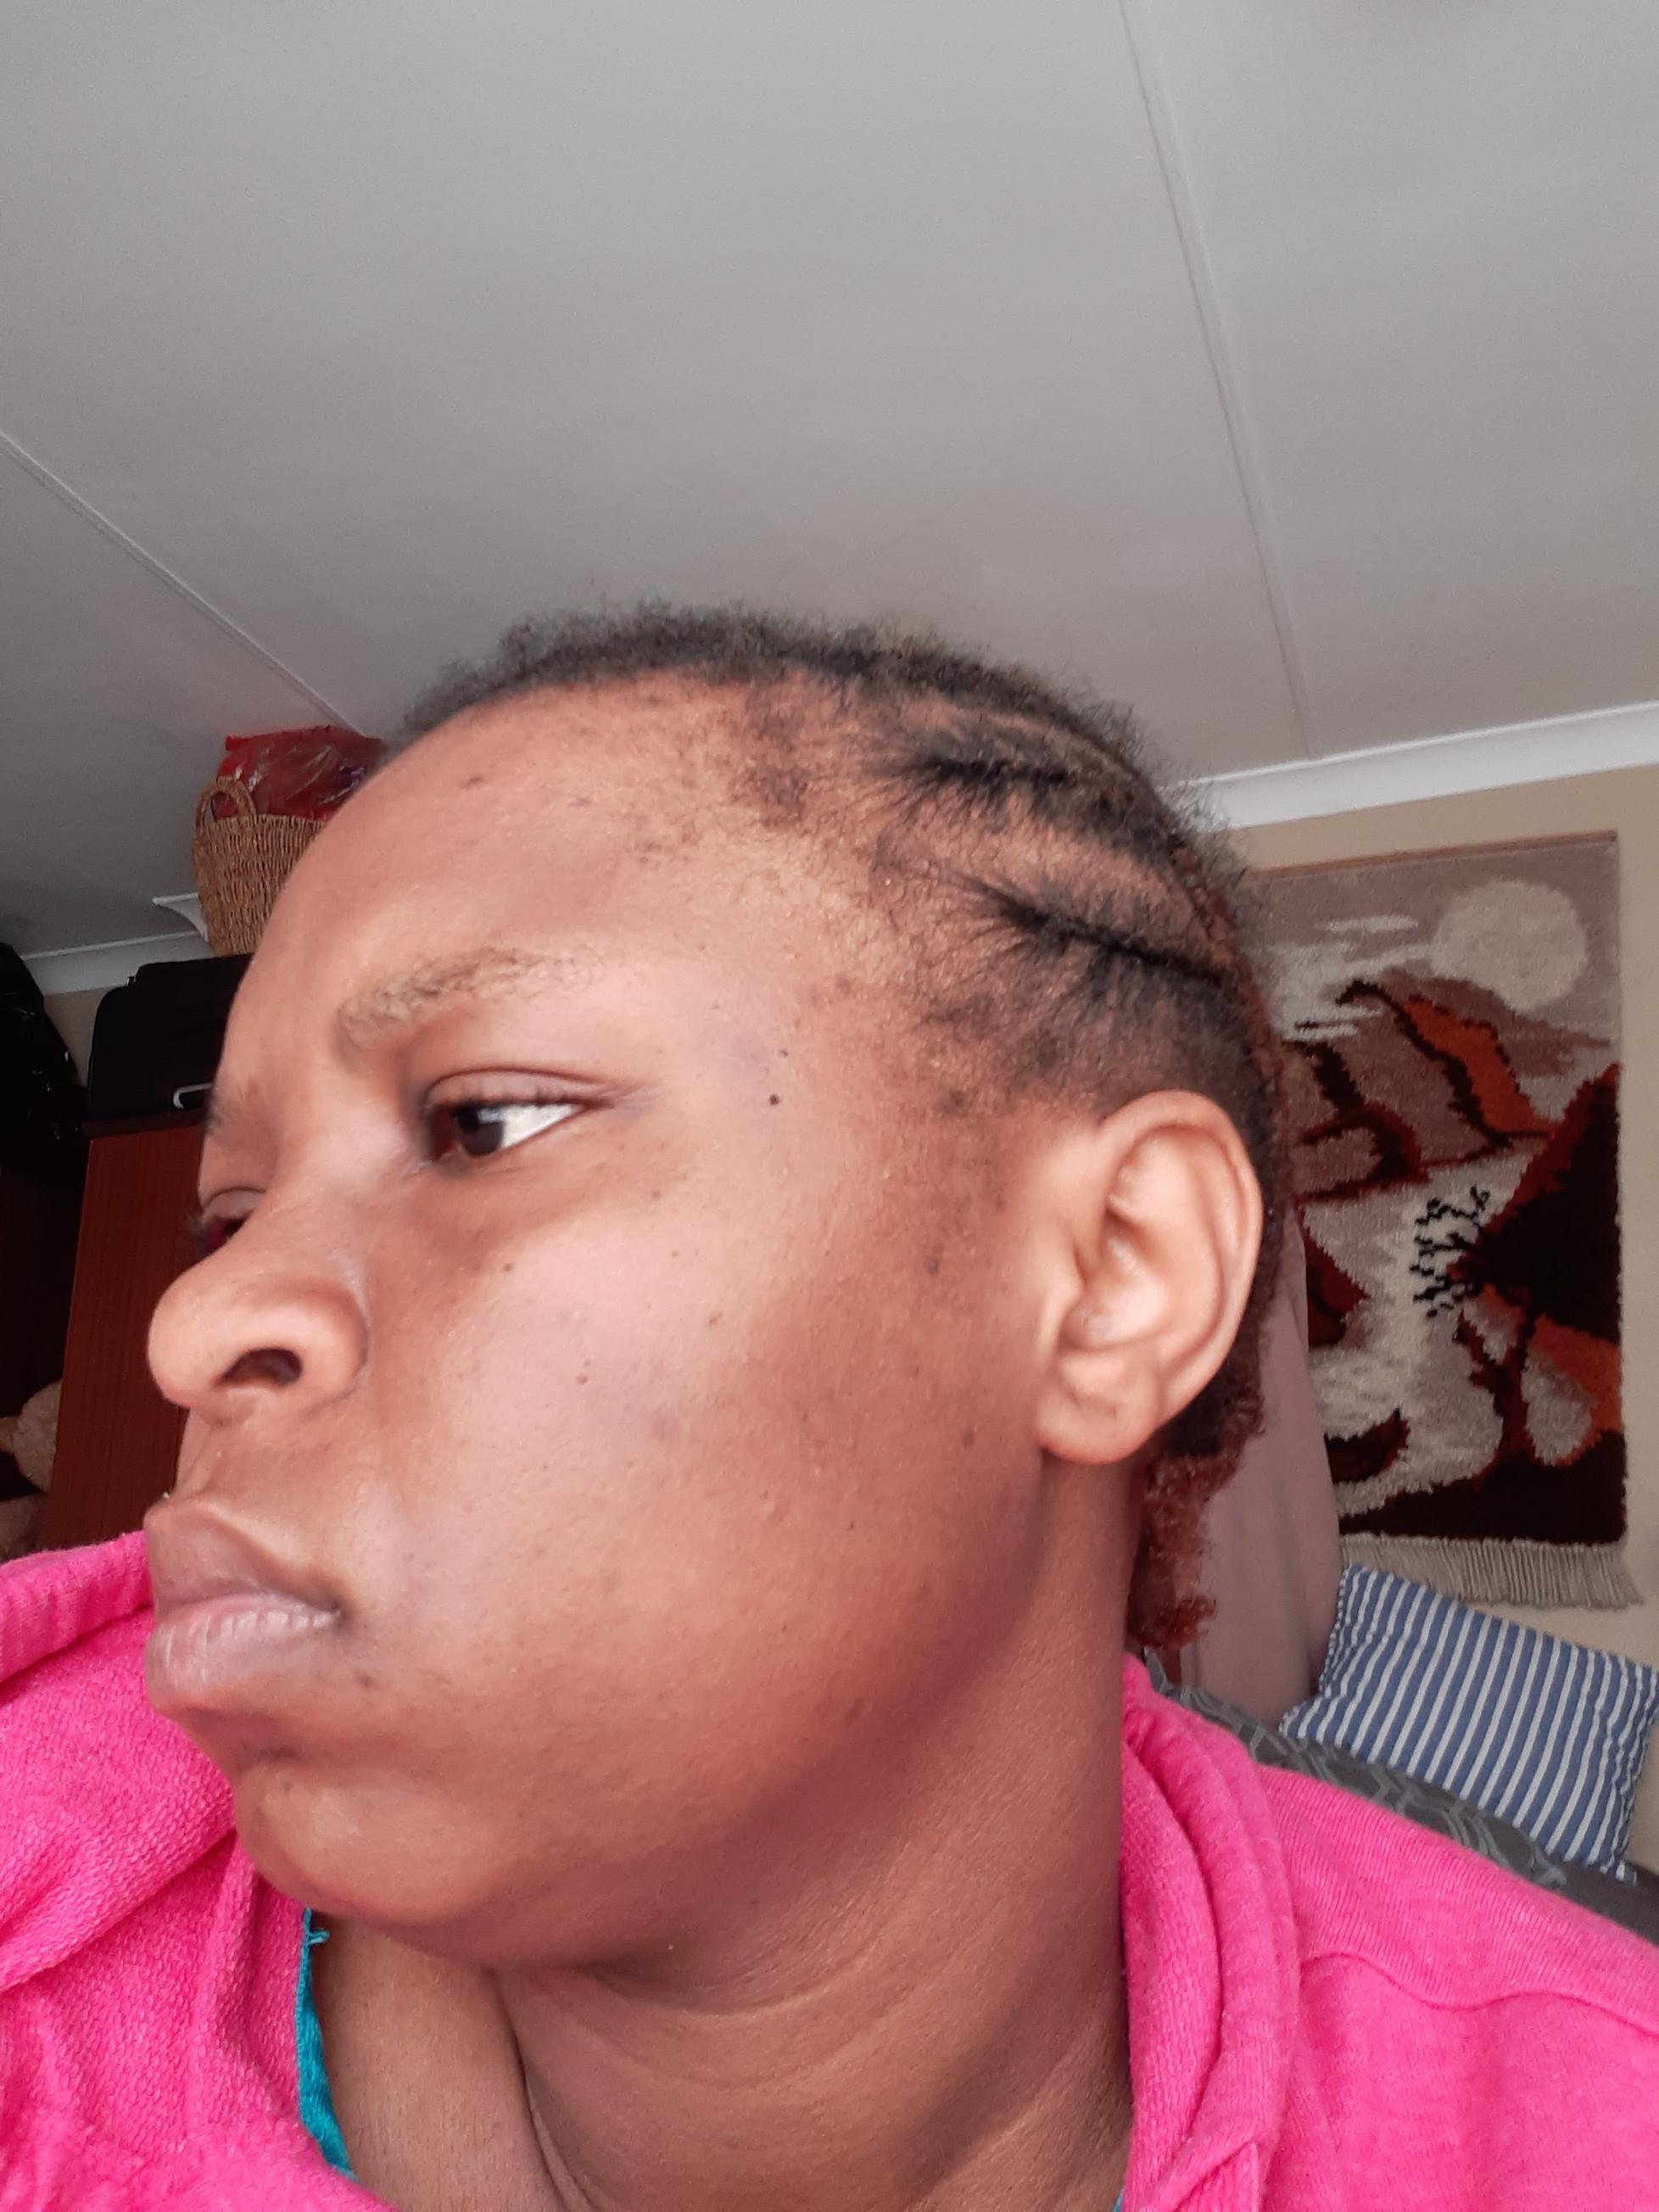Acne: (781, 972, 863, 1031), (565, 1348, 603, 1393), (753, 1491, 791, 1531), (913, 1249, 948, 1285), (455, 768, 493, 796), (349, 1669, 382, 1695)
